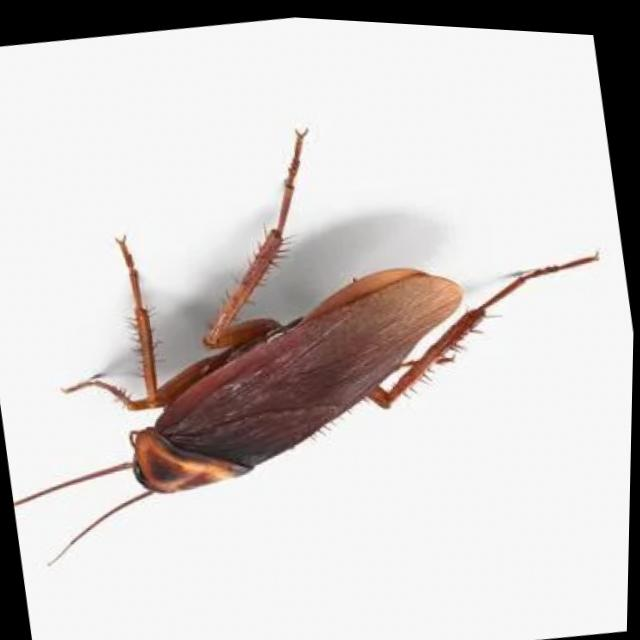Cockroach: (0, 56, 639, 609)
